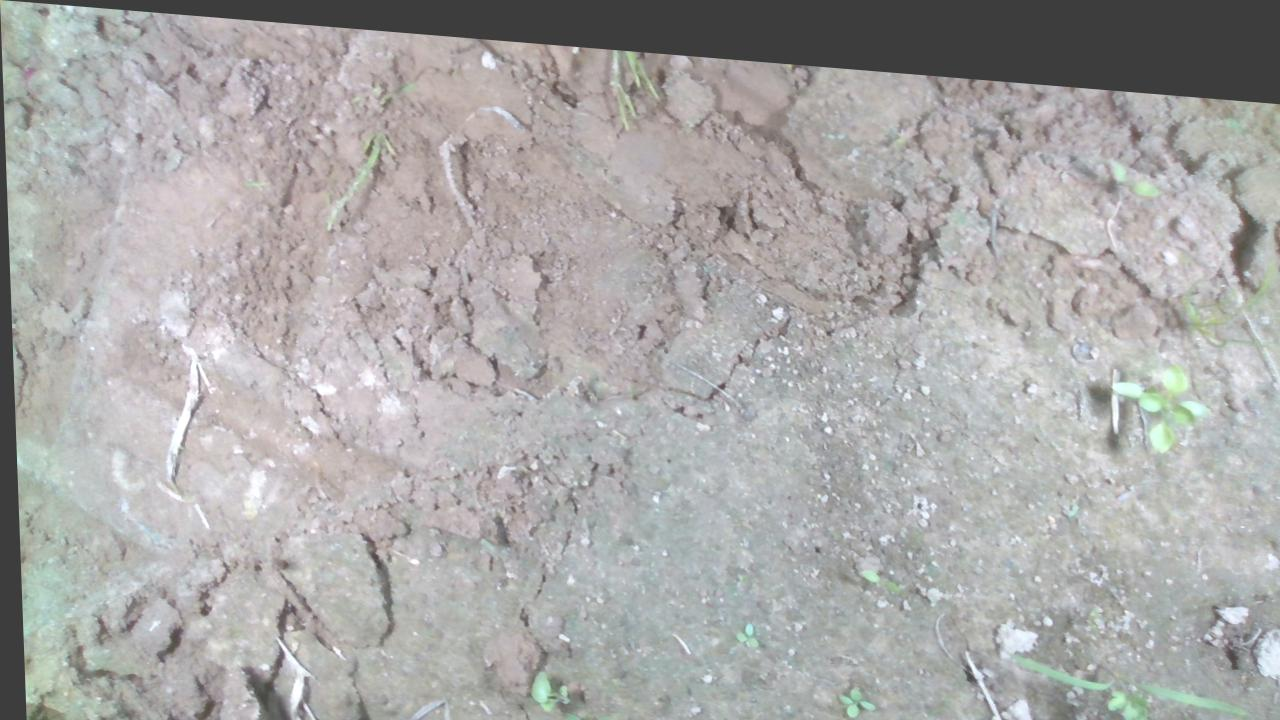weed: (1103, 335, 1210, 436), (1093, 136, 1162, 180), (828, 668, 871, 708), (850, 552, 901, 580), (552, 699, 622, 719), (726, 605, 755, 637)
